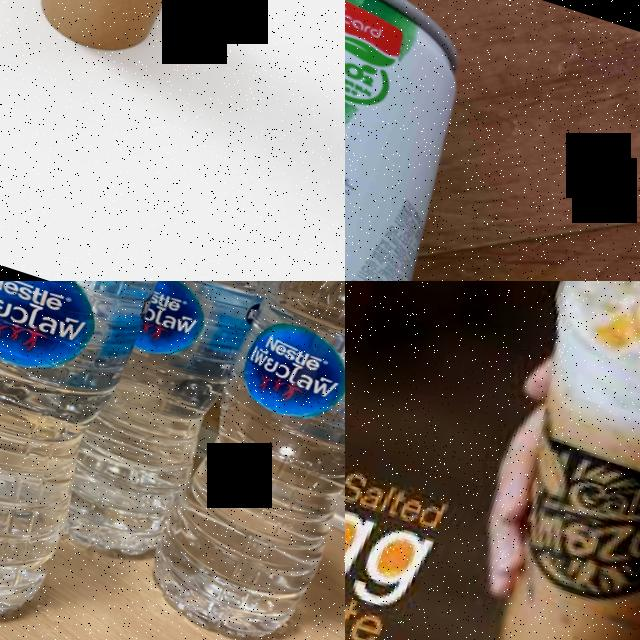bottle: (47, 281, 309, 582), (0, 281, 217, 640), (135, 281, 345, 640)
can: (345, 0, 523, 281)
cup: (428, 281, 640, 640), (0, 0, 281, 80)
